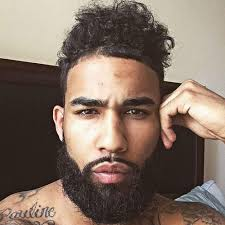black_male: (51, 37, 183, 209)
